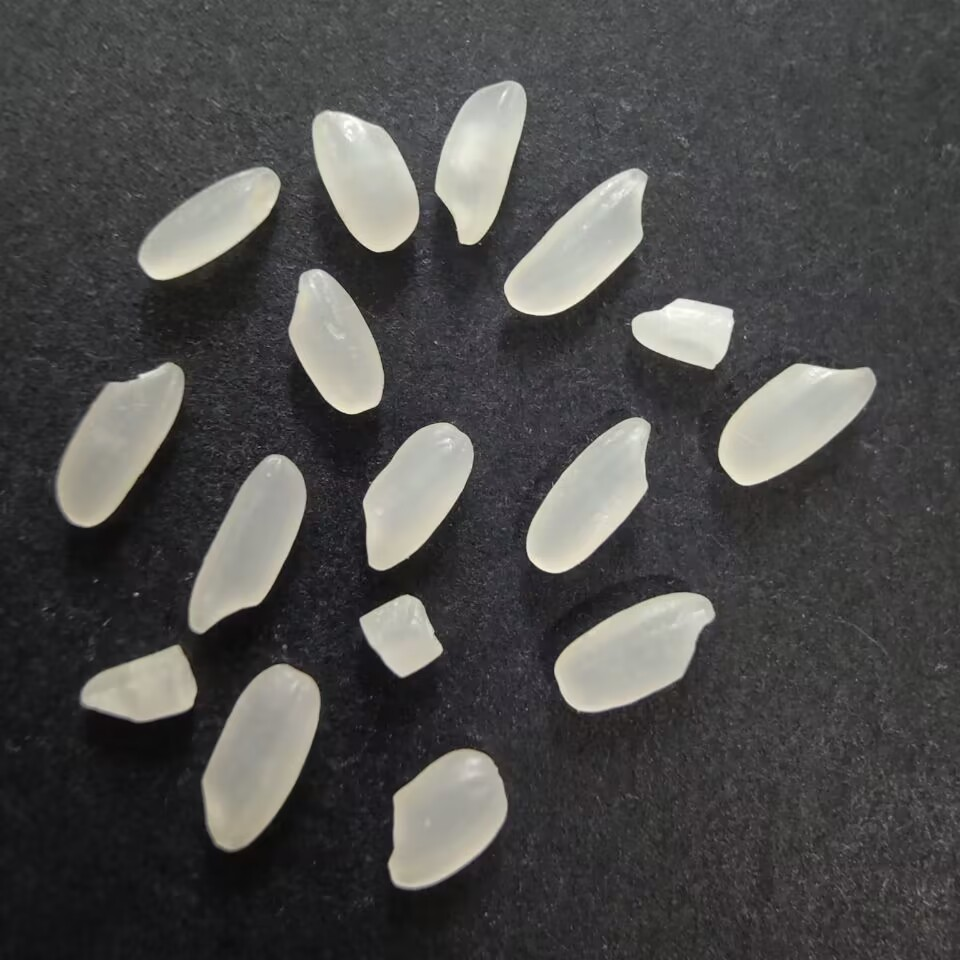broken: (74, 640, 204, 728), (351, 591, 450, 684), (626, 294, 737, 370)
rice: (183, 445, 316, 643), (198, 659, 325, 858), (500, 163, 655, 322), (547, 587, 725, 723), (53, 358, 190, 533), (519, 413, 659, 578), (709, 357, 882, 488), (379, 742, 512, 897), (356, 417, 477, 574), (133, 163, 284, 283), (307, 105, 426, 256), (427, 76, 530, 249), (279, 264, 391, 420)
